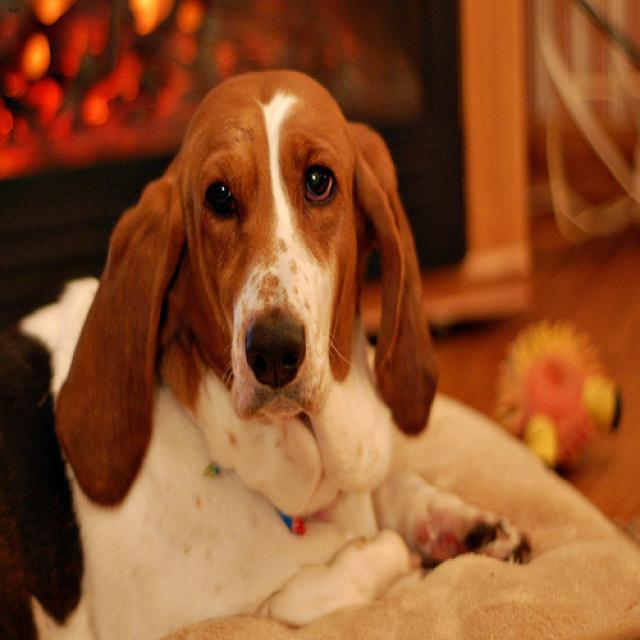dog-basset_hound: (1, 52, 538, 636)
